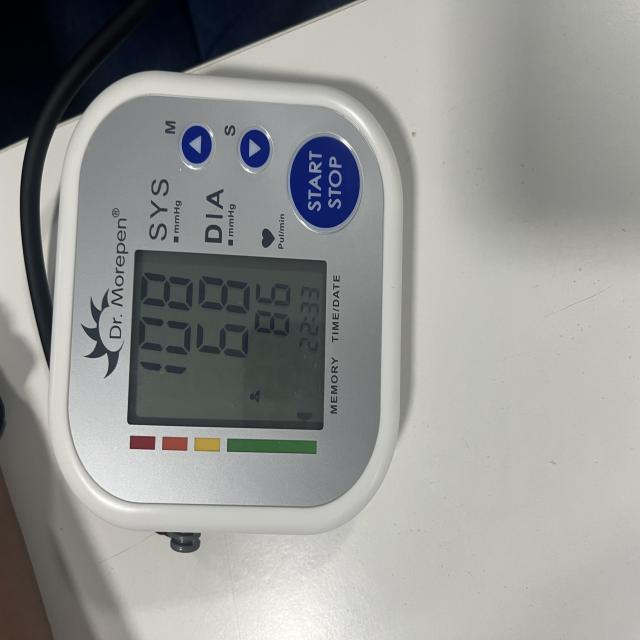bp: (0, 71, 417, 556)
